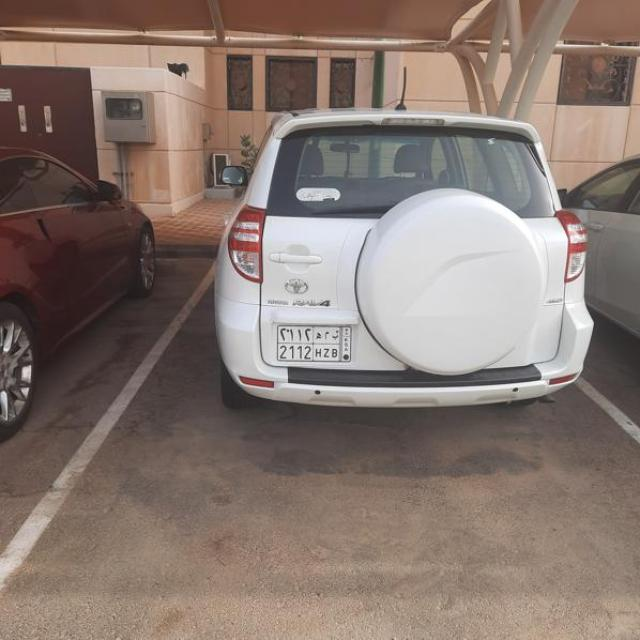license_plate: (276, 324, 352, 362)
